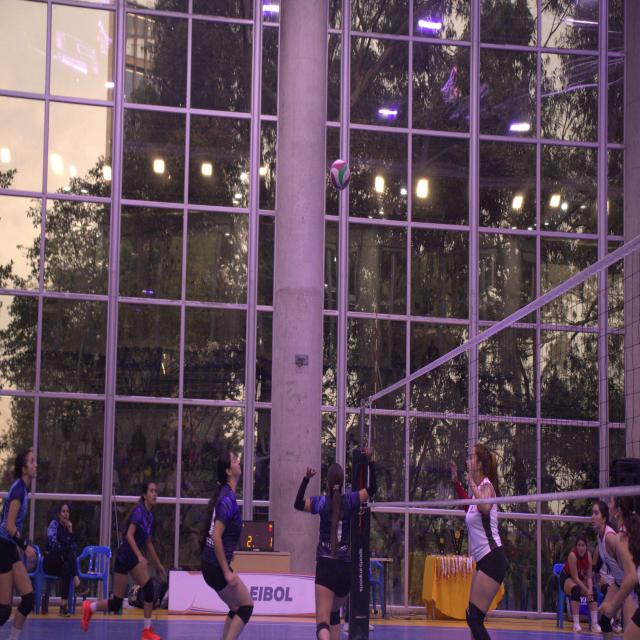volleyball: (329, 159, 350, 191)
